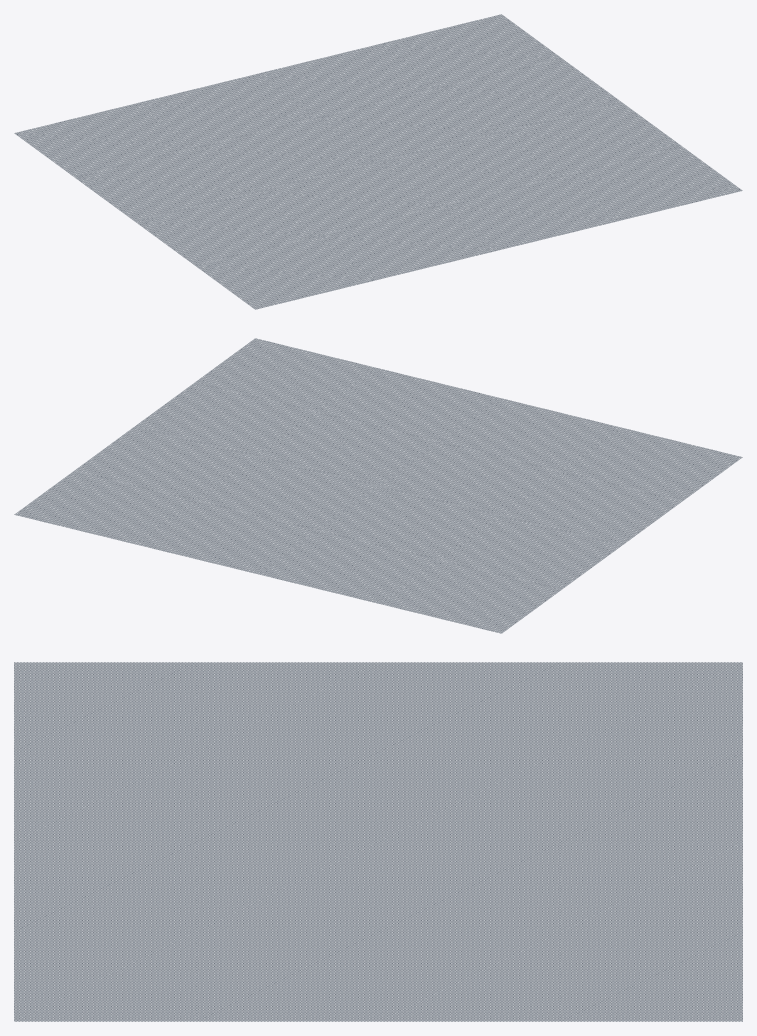
File: flatPlane.fbx
3 views of the same model, one above another, from view 1: azimuth 30°, elevation 25°; view 2: azimuth 150°, elevation 25°; view 3: azimuth 270°, elevation 25° (orthographic). The views are drawn at different scales.
Parts seen in each view (by area): view 1: levelGeometry; view 2: levelGeometry; view 3: levelGeometry.
Boxes of the visible parts, x1,y1,x2,y2 form: levelGeometry: (14,14,742,309); levelGeometry: (14,338,742,633); levelGeometry: (14,662,742,1021).
Bounding box in the file's own units: 20012 × 17149 × 0.
Materials: 1 (1 with a texture image).
